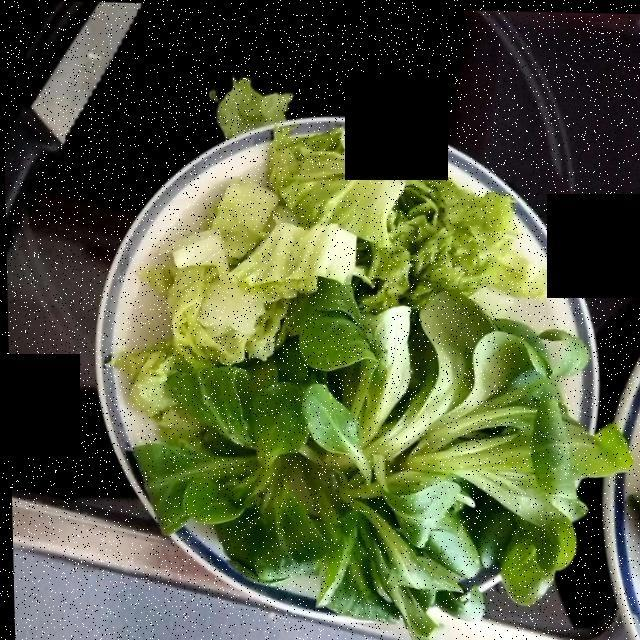salad: (151, 309, 624, 611), (125, 96, 536, 380)
